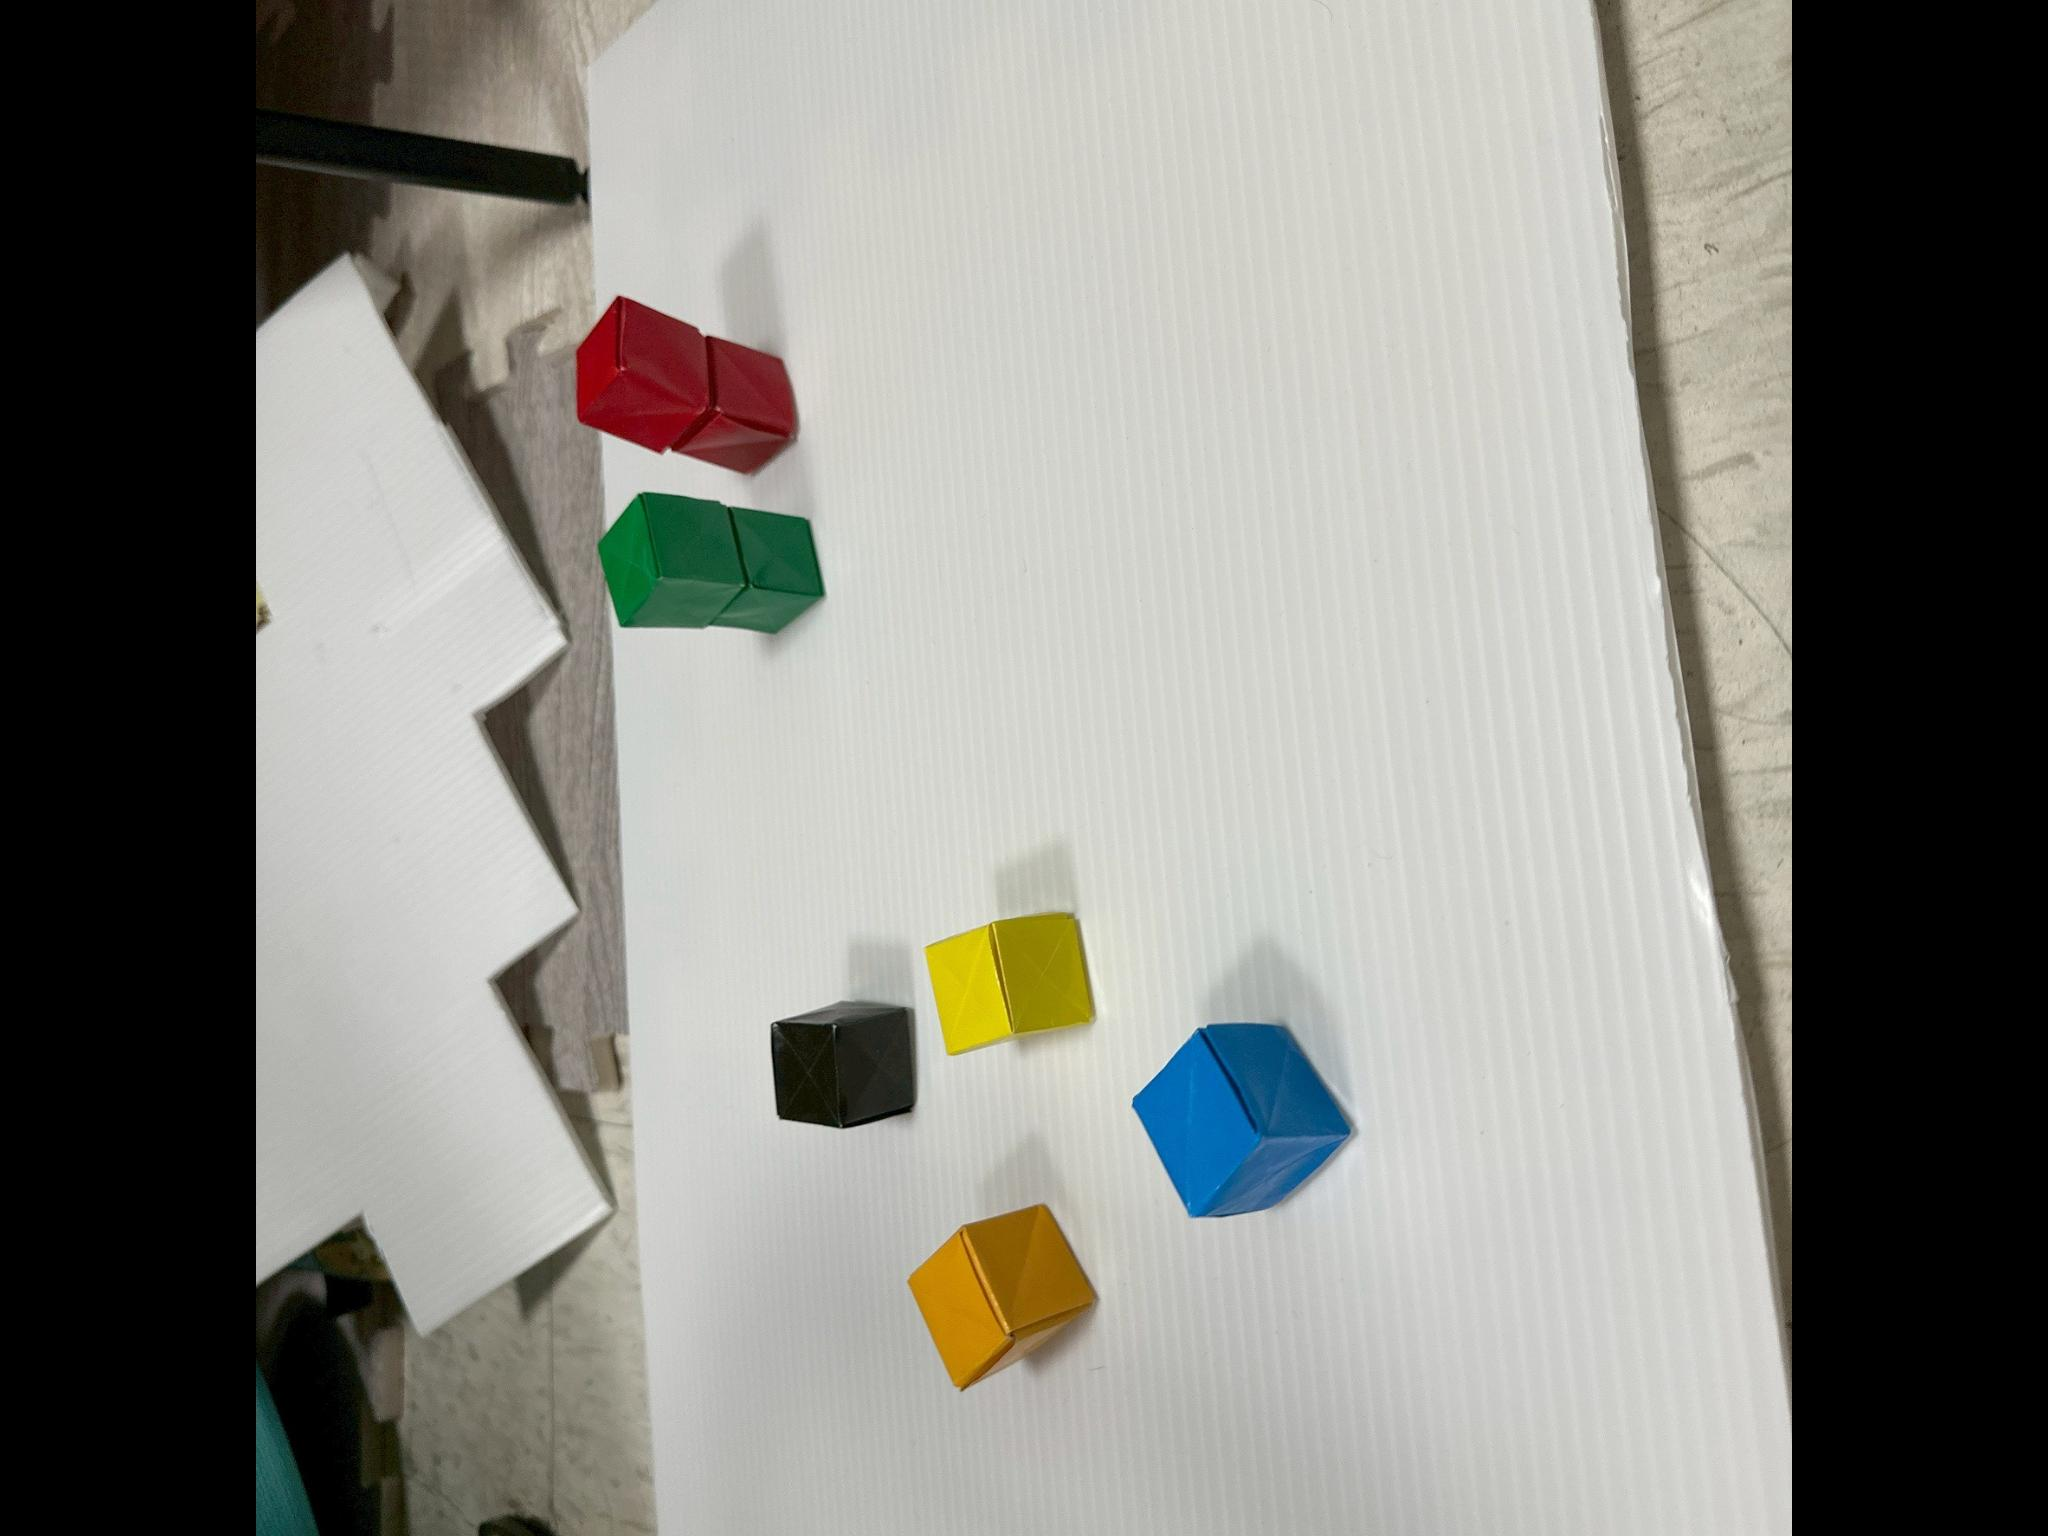base: (1134, 1023, 1350, 1215), (910, 1205, 1093, 1388), (926, 913, 1092, 1052), (577, 297, 711, 453), (598, 492, 745, 626), (771, 1000, 916, 1128), (676, 337, 795, 473), (711, 508, 822, 632)
